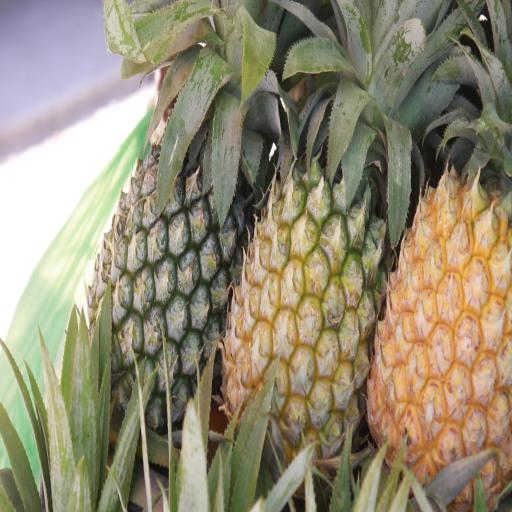------------------------------: (227, 63, 376, 467)
Pineapple - v8 v1: (377, 31, 512, 507)
